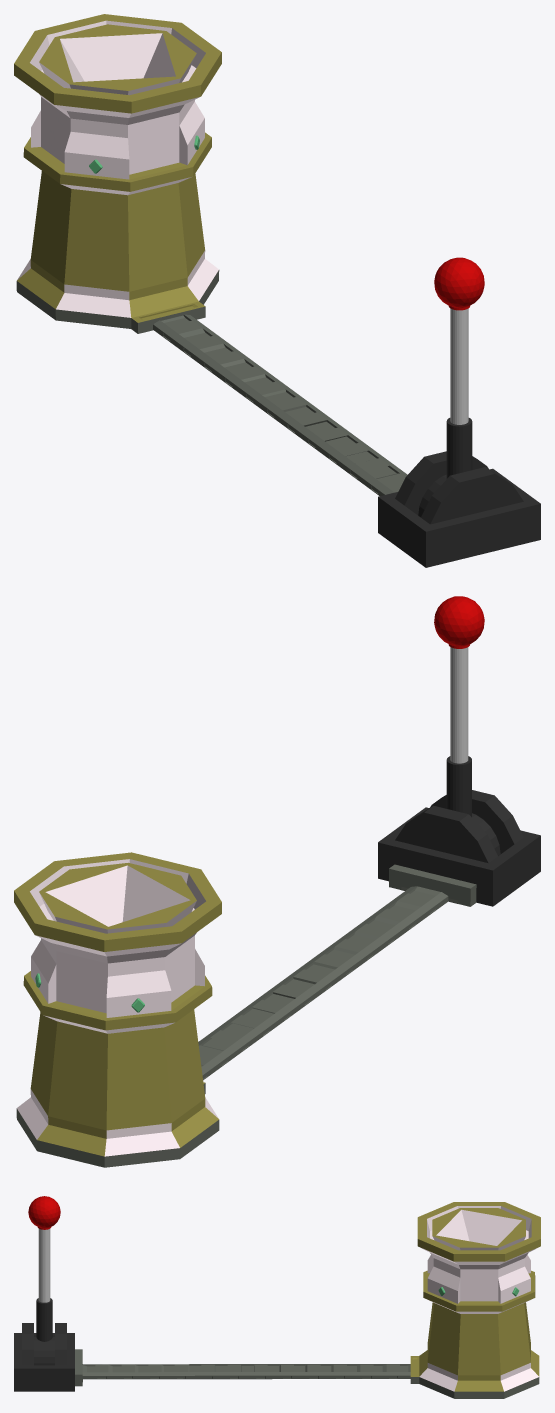
The model's file is 8.2水平控制器.fbx.
3 views of the same model, one above another, from view 1: azimuth 30°, elevation 25°; view 2: azimuth 150°, elevation 25°; view 3: azimuth 270°, elevation 25° (orthographic). The views are drawn at different scales.
Visible parts, largest first — view 1: 柱体, Base.COL, 柱体.002, Stick; view 2: 柱体, Base.COL, 柱体.002, Stick, 柱体.004; view 3: 柱体, 柱体.002, Base.COL, Stick, 柱体.004.
Part boxes in pixels (left/top/right/bottom): 柱体: left=14, top=14, right=221, bottom=333; Base.COL: left=378, top=451, right=540, bottom=567; 柱体.002: left=153, top=314, right=407, bottom=495; Stick: left=418, top=257, right=484, bottom=517; 柱体: left=14, top=852, right=221, bottom=1167; Base.COL: left=378, top=790, right=540, bottom=906; 柱体.002: left=198, top=886, right=448, bottom=1080; Stick: left=434, top=596, right=500, bottom=855; 柱体.004: left=389, top=864, right=476, bottom=906; 柱体: left=410, top=1202, right=540, bottom=1398; 柱体.002: left=82, top=1364, right=410, bottom=1379; Base.COL: left=14, top=1323, right=74, bottom=1391; Stick: left=28, top=1196, right=60, bottom=1365; 柱体.004: left=75, top=1349, right=82, bottom=1386.
Bounding box in the file's own units: 76.17 × 120 × 325.
